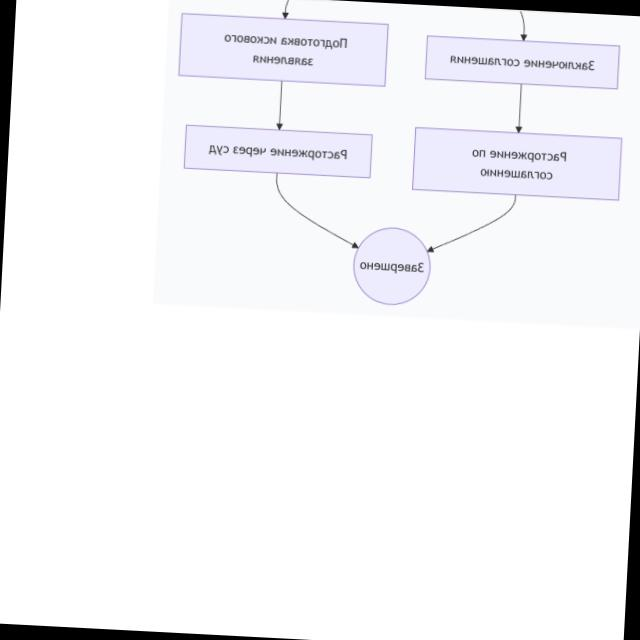arrow: (270, 172, 363, 249), (426, 191, 518, 258), (514, 84, 527, 134), (275, 82, 288, 131)
circle: (350, 225, 433, 309)
rectangle: (177, 12, 388, 88), (412, 129, 620, 200), (423, 35, 619, 90), (182, 124, 371, 178)
